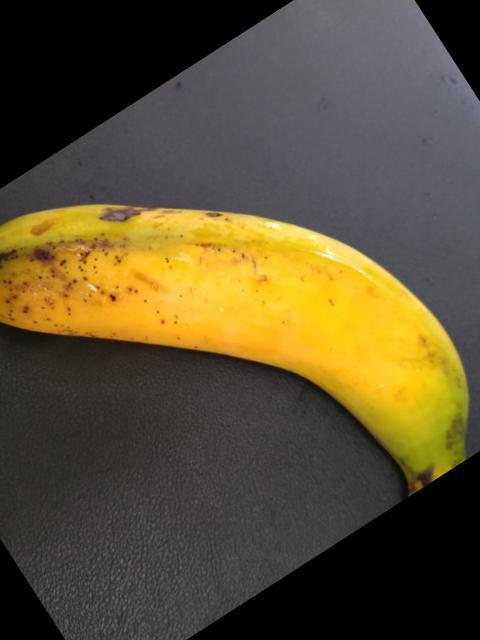ripe: (0, 163, 477, 498)
